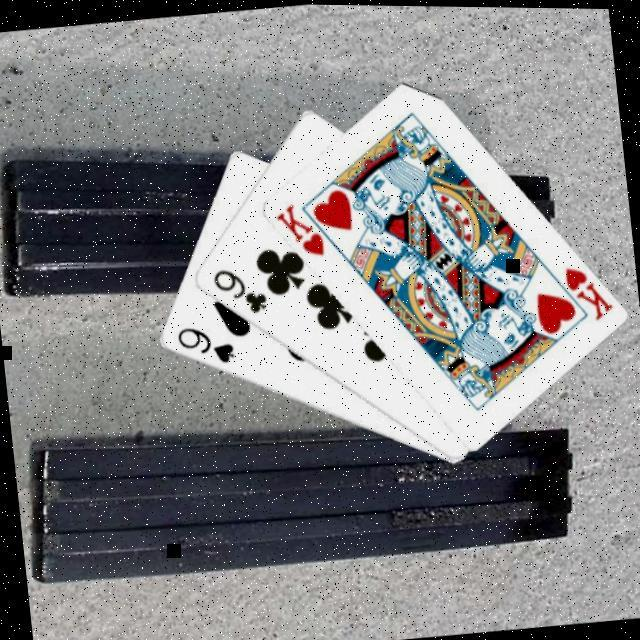9C: (208, 258, 271, 318)
9S: (173, 317, 239, 370)
KH: (271, 195, 329, 261), (560, 256, 616, 324)
